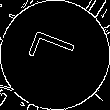L_E: (26, 32, 84, 78)
